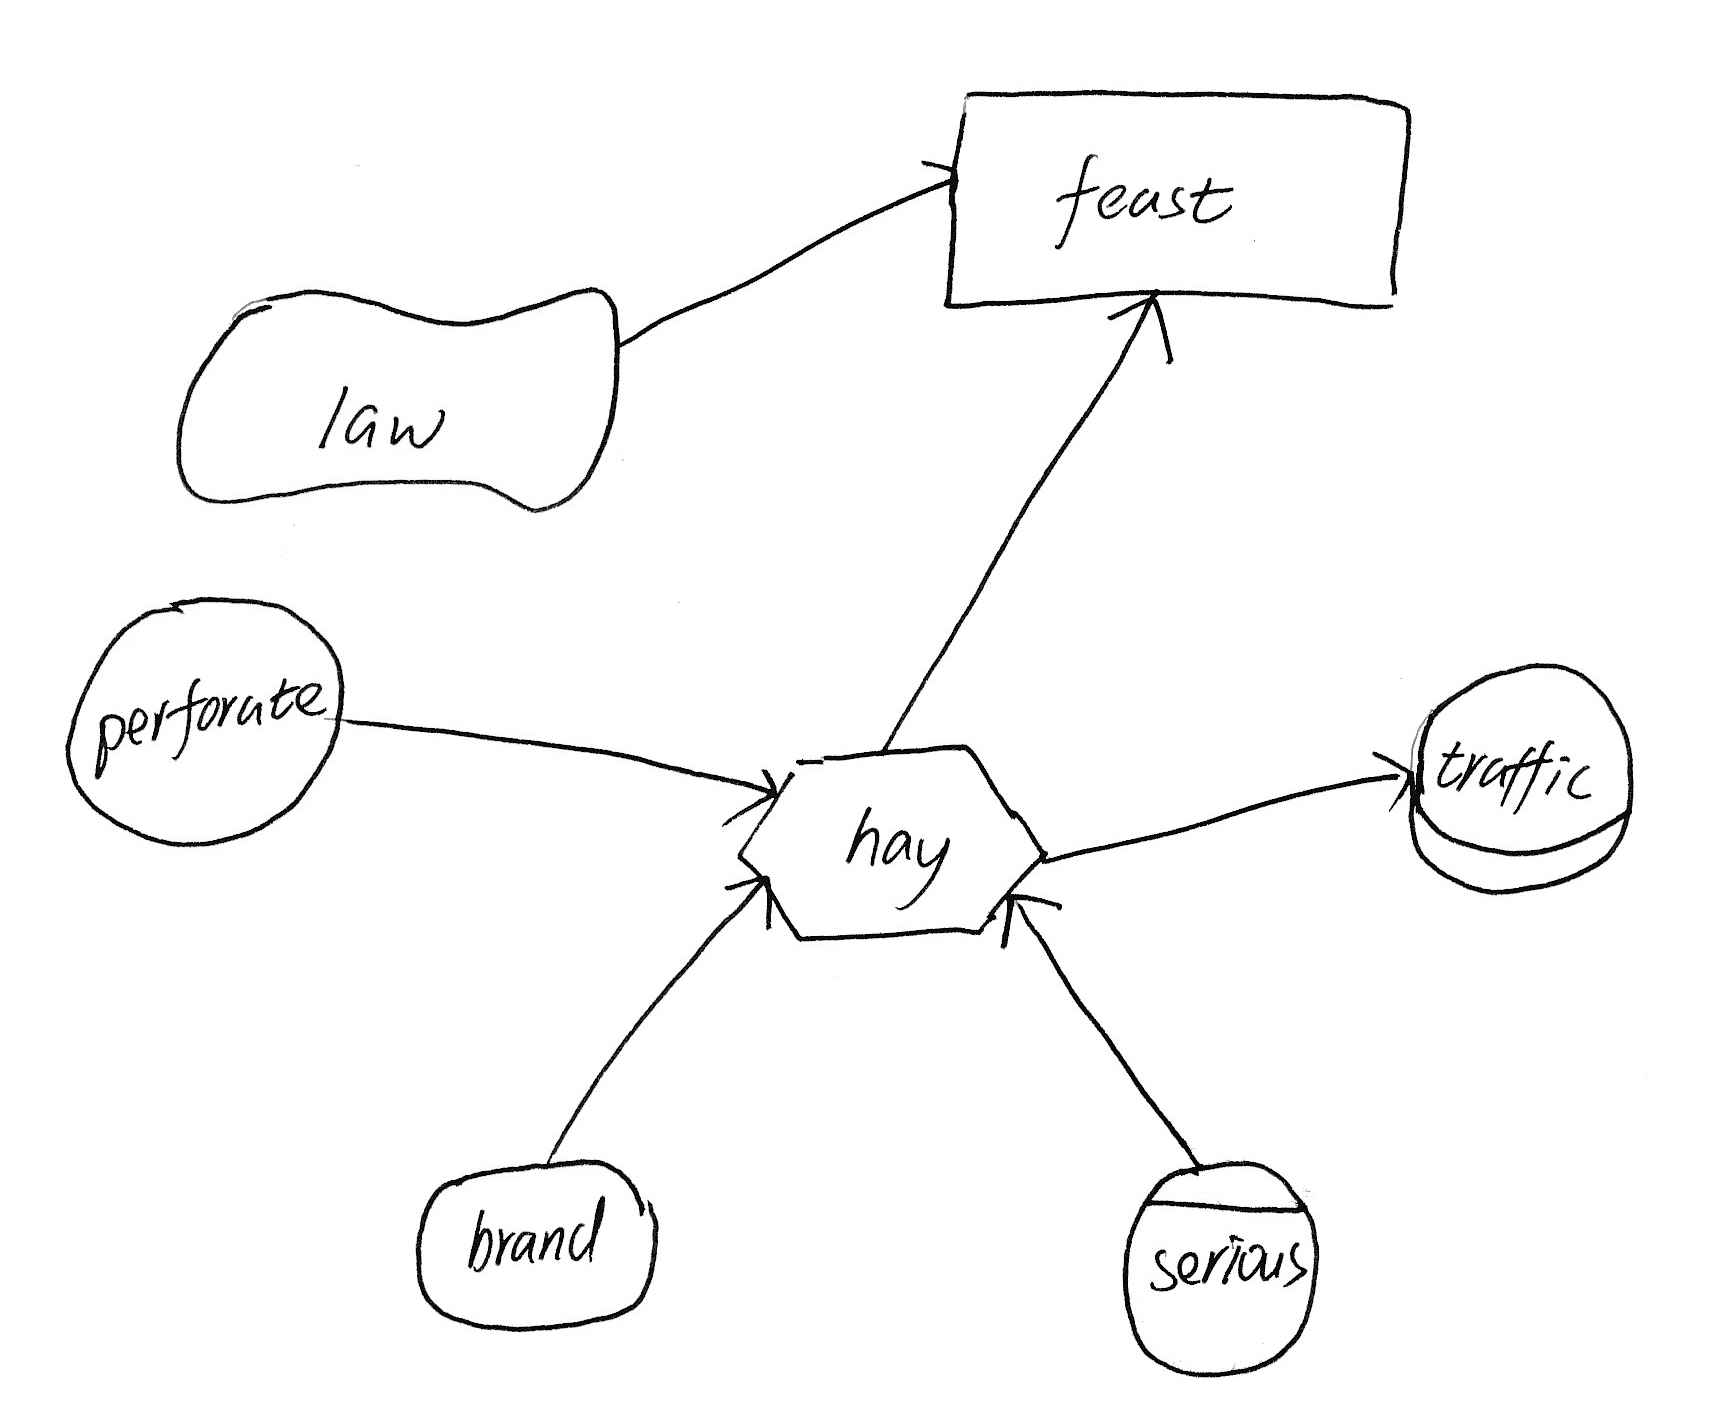actor: (50, 578, 368, 868)
agent: (1105, 1144, 1337, 1390)
arrow: (1096, 282, 1187, 376), (713, 745, 792, 836), (1366, 740, 1431, 831), (720, 863, 790, 944), (992, 886, 1067, 960), (913, 147, 972, 212)
goal: (400, 1145, 674, 1346)
quality: (149, 266, 640, 525)
resource: (923, 65, 1428, 330)
role: (1384, 644, 1656, 908)
task: (718, 724, 1066, 964)
